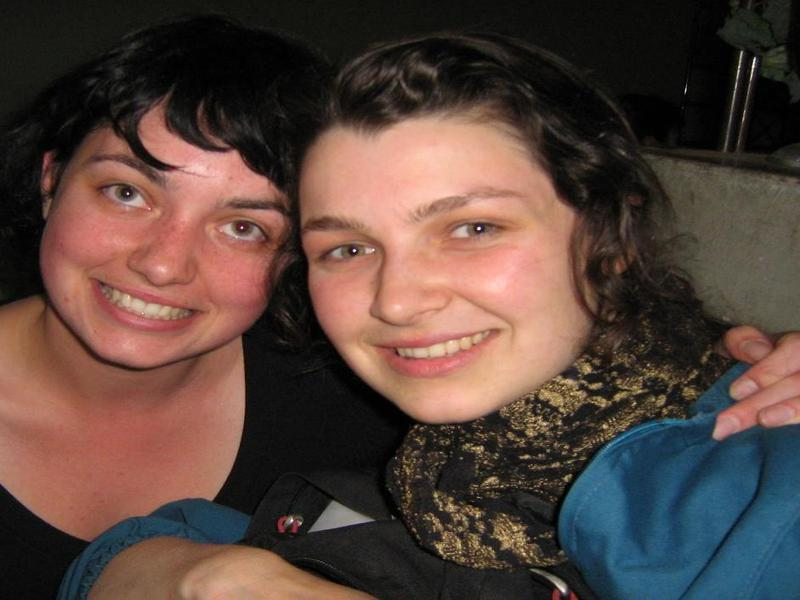person: (279, 35, 800, 600), (15, 25, 402, 600)
